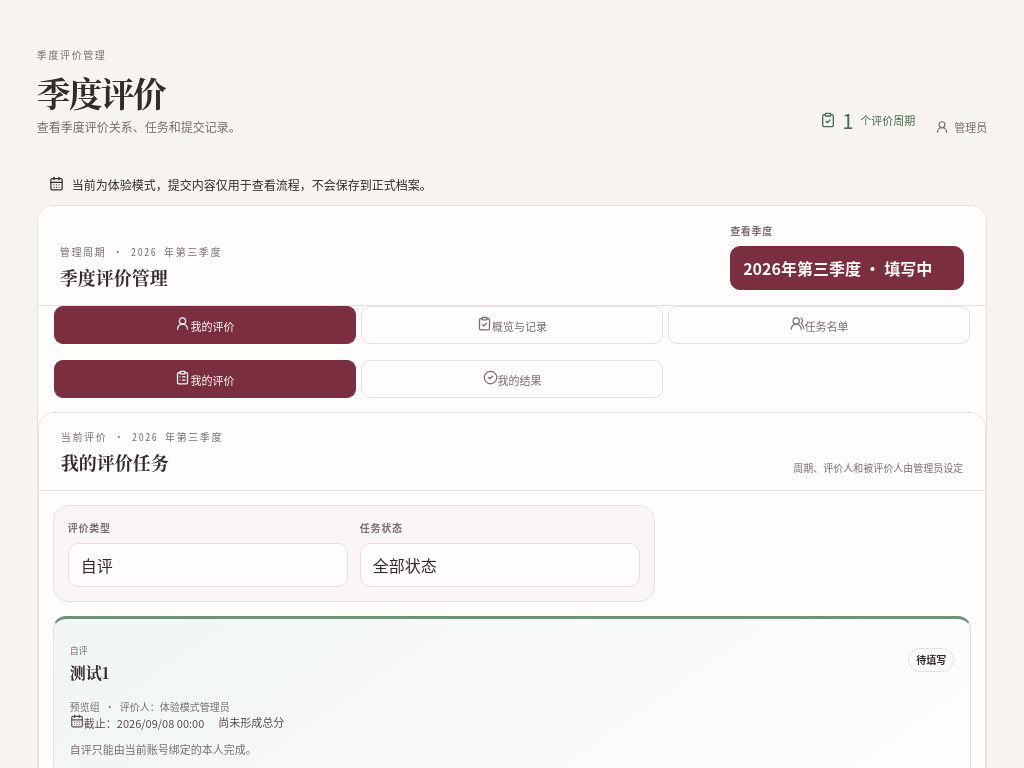
Test: QuarterlyAssessmentsPage › disables all task assignment controls when the scheduled period is effectively open
The image size is (1024, 768).
Click the button "任务名单" at (819, 325), box [668,306,970,344]
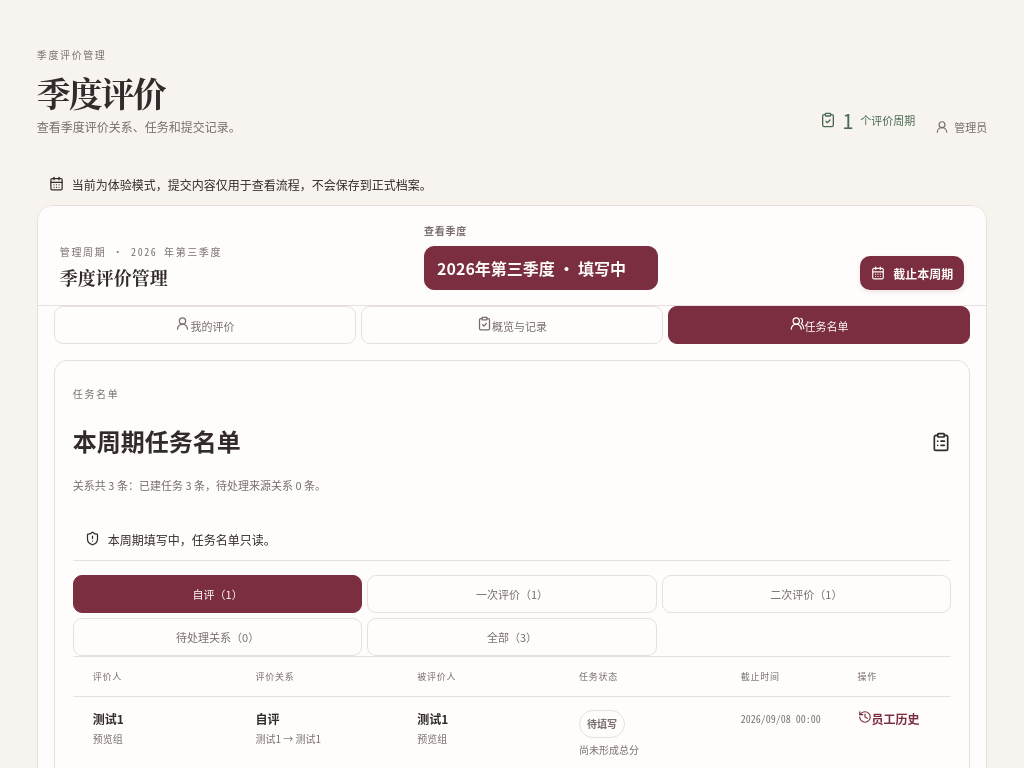
expect the text "本周期填写中，任务名单只读。" is shown: met, box [85,531,276,548]
